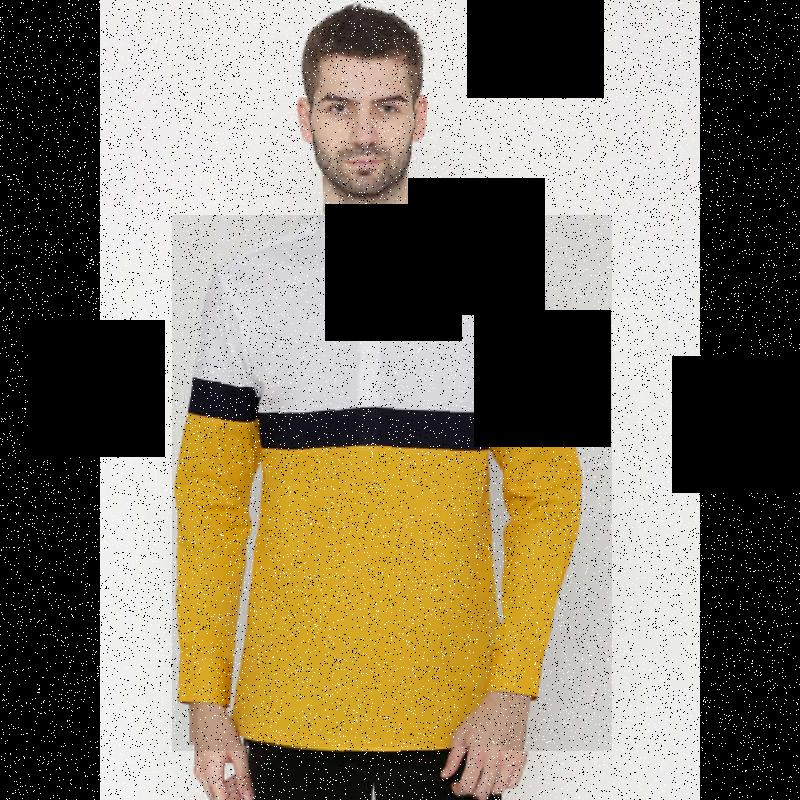Jeans: (242, 747, 501, 800)
shirt: (172, 215, 612, 751)
